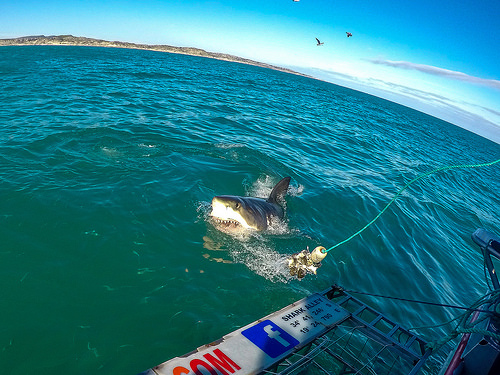shark: (186, 151, 316, 245)
